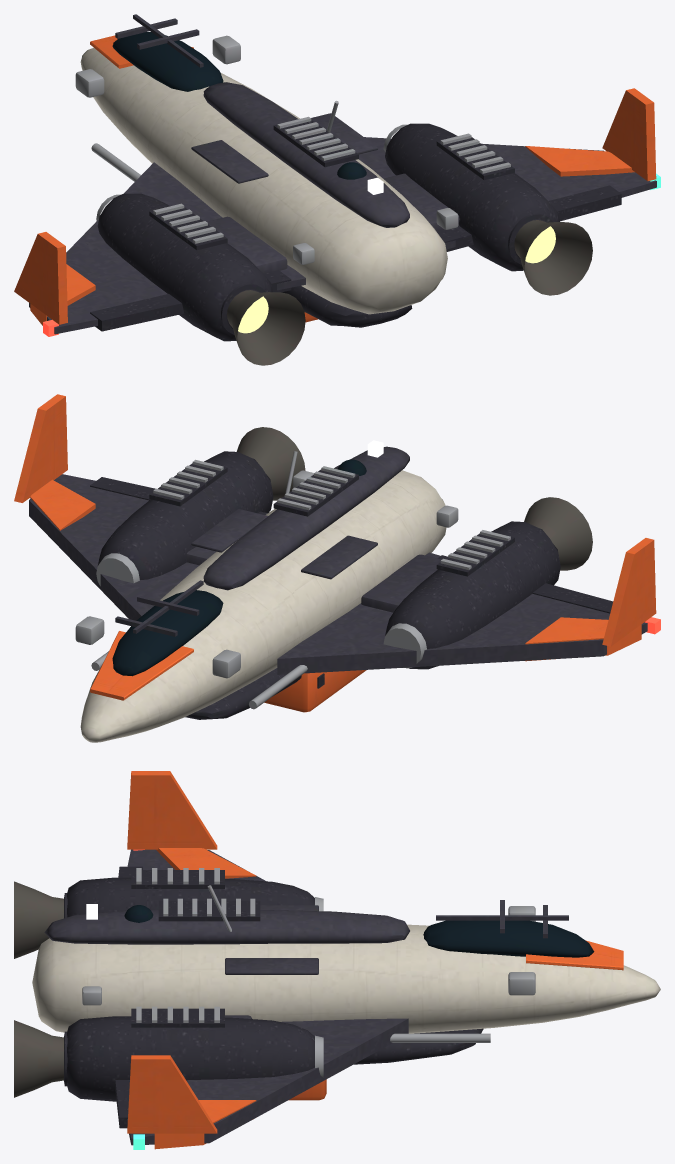
Rendered from game-kestrel.glb.
3 renders of one model, top to bottom at view 1: azimuth 30°, elevation 25°; view 2: azimuth 150°, elevation 25°; view 3: azimuth 270°, elevation 25°, orthographic.
Parts seen in each view (by area): view 1: kestrel; view 2: kestrel; view 3: kestrel.
Boxes of the visible parts, x1=… form: kestrel: x1=14, y1=14, x2=660, y2=365; kestrel: x1=14, y1=394, x2=660, y2=742; kestrel: x1=14, y1=771, x2=660, y2=1149.
Size of the model in its own units: 17.9 by 5.72 by 16.56.
6 materials, 2 textured.
